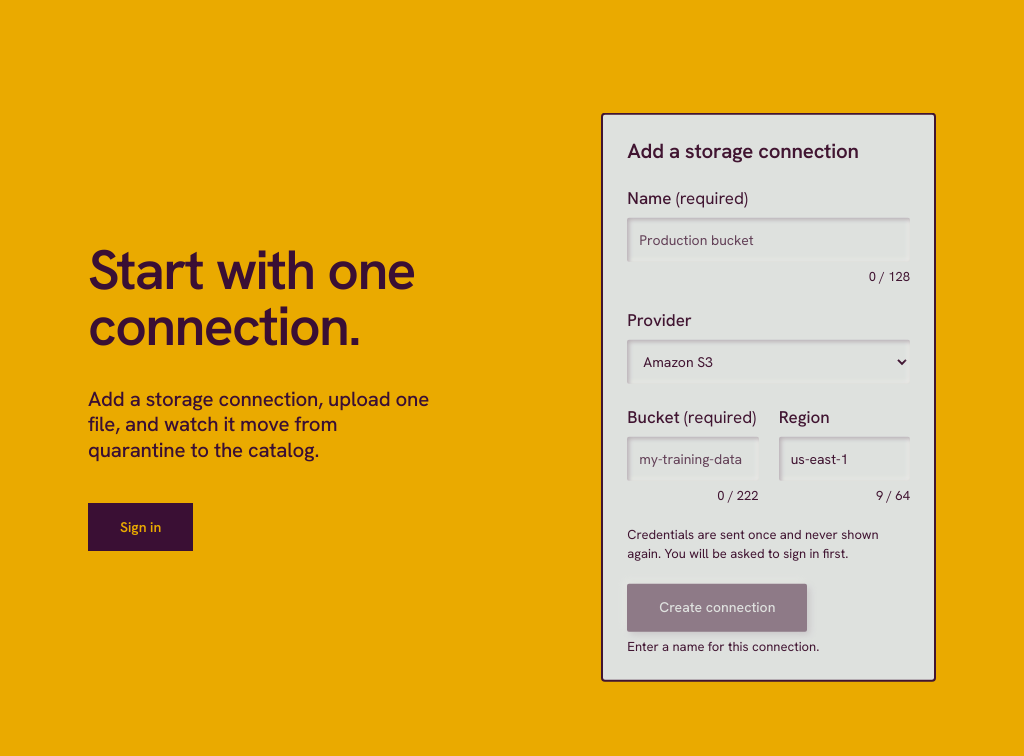
Scenario: begin dialog › shows counts and an inline error after leaving a bad bucket
Step 1. Type "a" into the field labelled "Bucket (required)" → {"x": 693, "y": 459}, box [627,437,759,481]
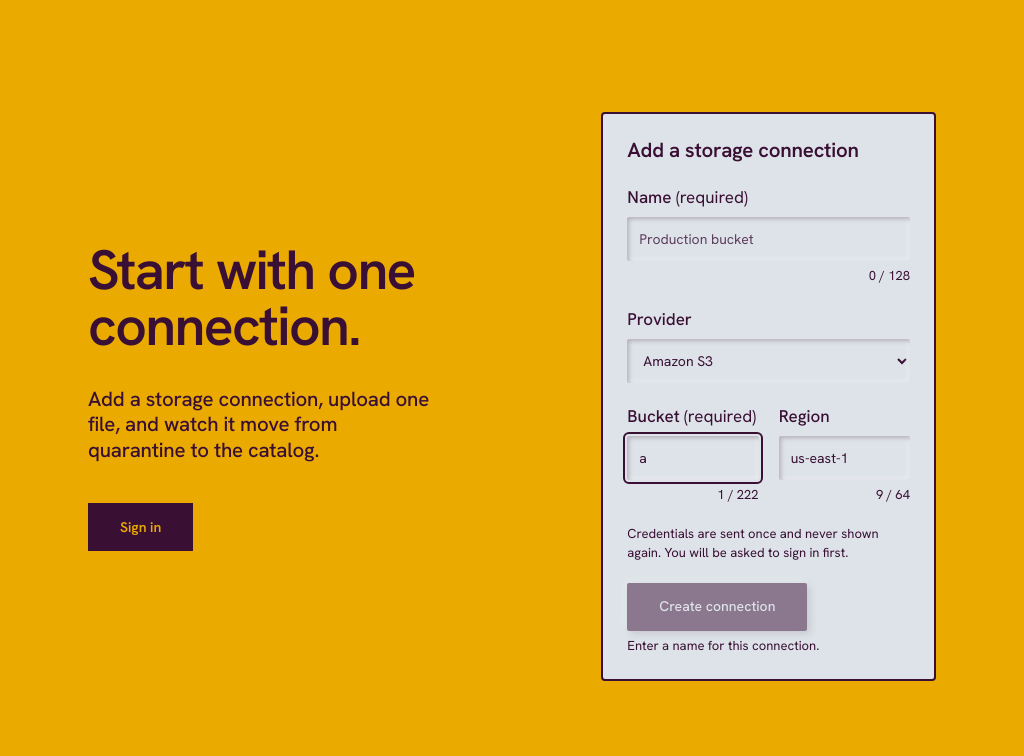
Expected: the text "bucket names are 3 to 222" is not shown
Expected: the text "1 / 222" is shown, [717,486,759,503]
Step 2. Press Tab
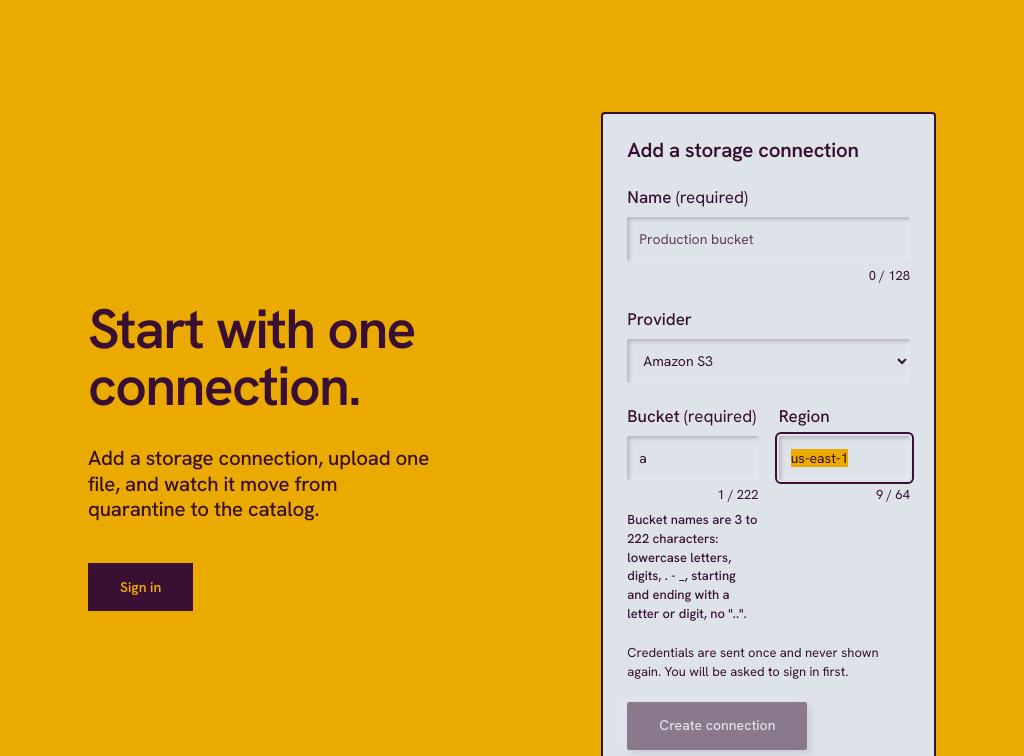
Expected: the button "Create connection" is disabled, [627,702,807,750]
Expected: the text "Bucket names are 3 to 222" is shown, [627,511,757,622]
